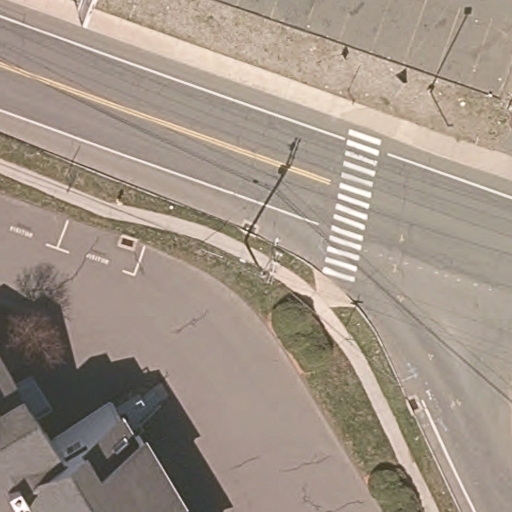DT: (240, 226, 284, 288)
